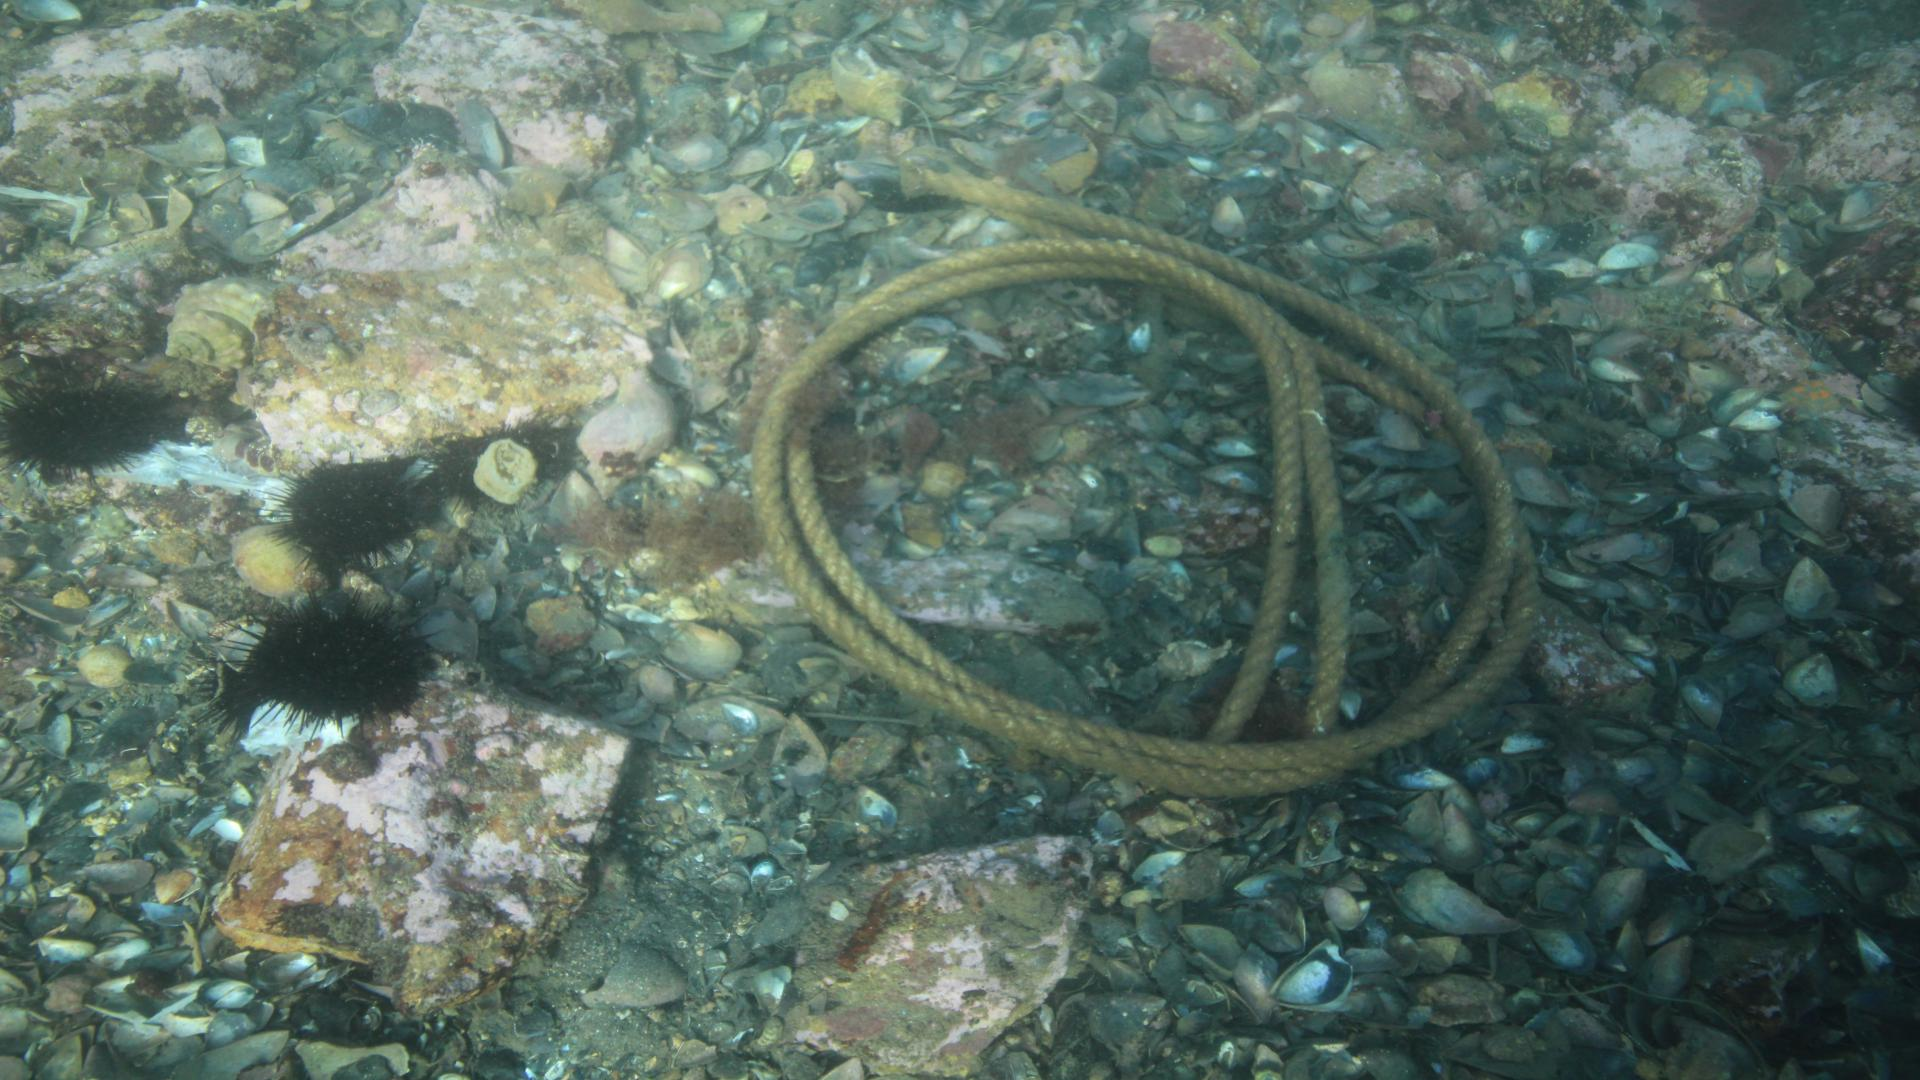bundle of ropes: (742, 193, 1552, 807)
